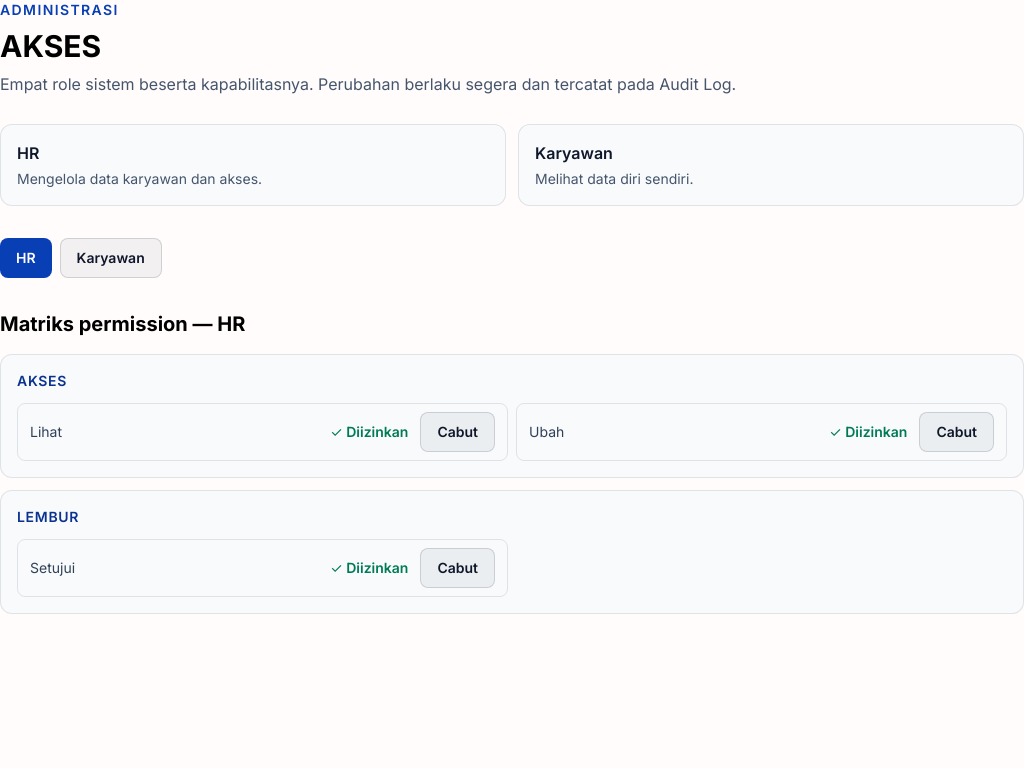
Test case: AccessPage › traps dialog focus and restores it to the permission control after cancel
The image size is (1024, 768).
Click the 1st button "Cabut": coordinates (458, 432) [420,412,495,452]
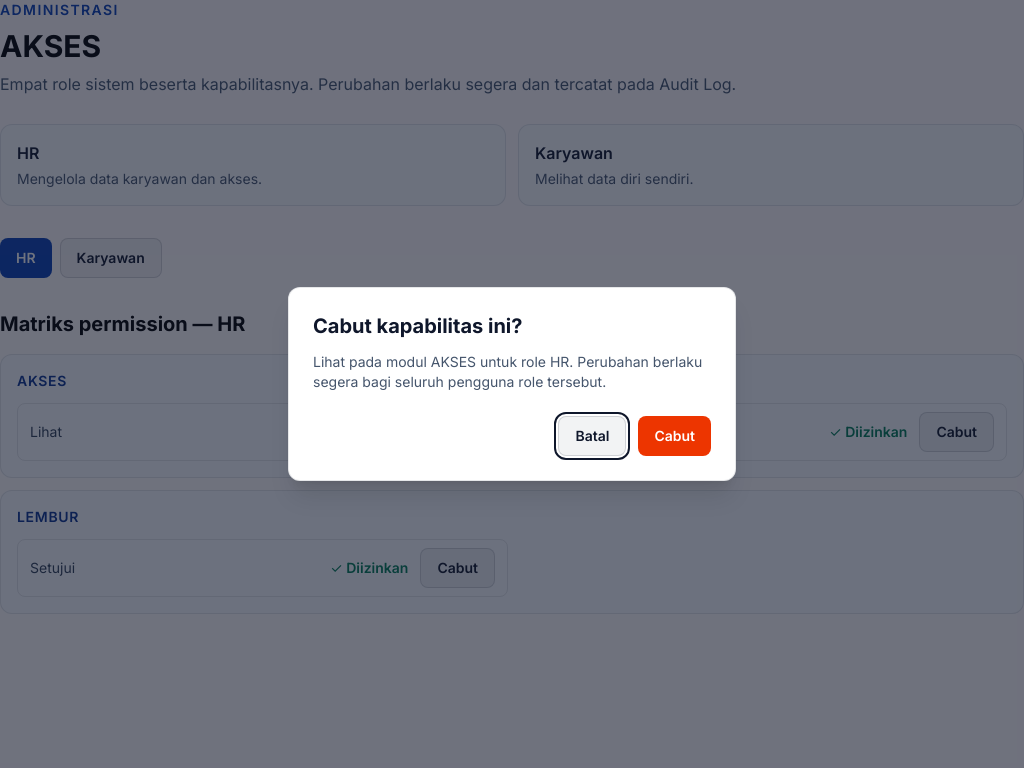
Press Shift+Tab
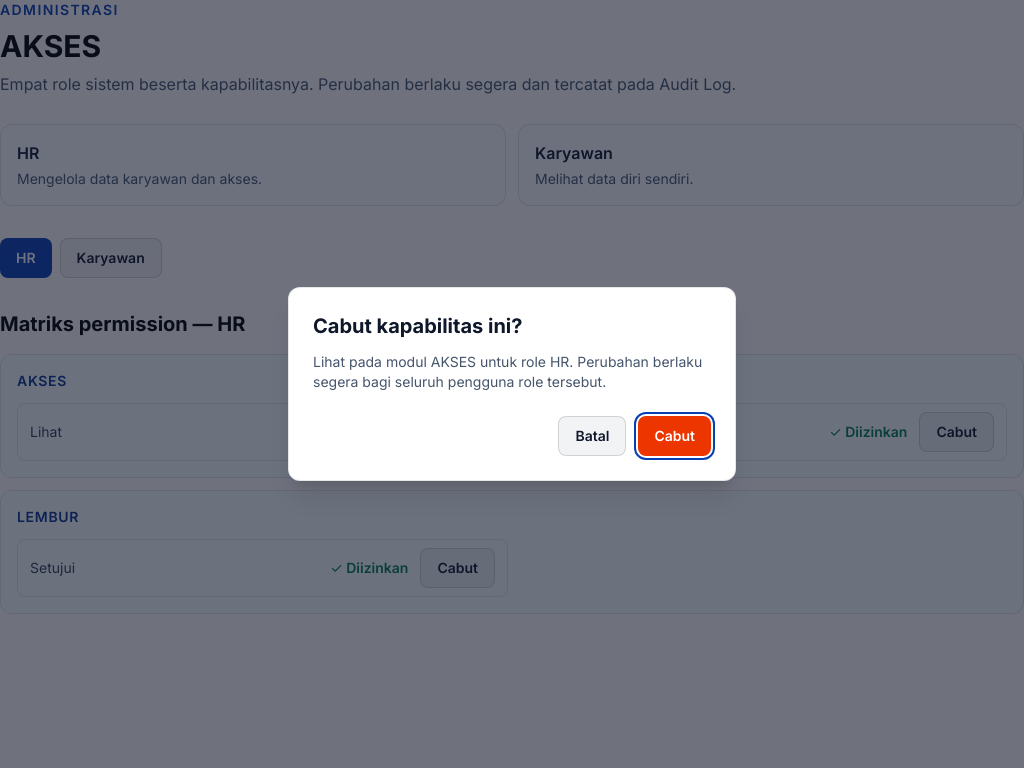
Press Tab
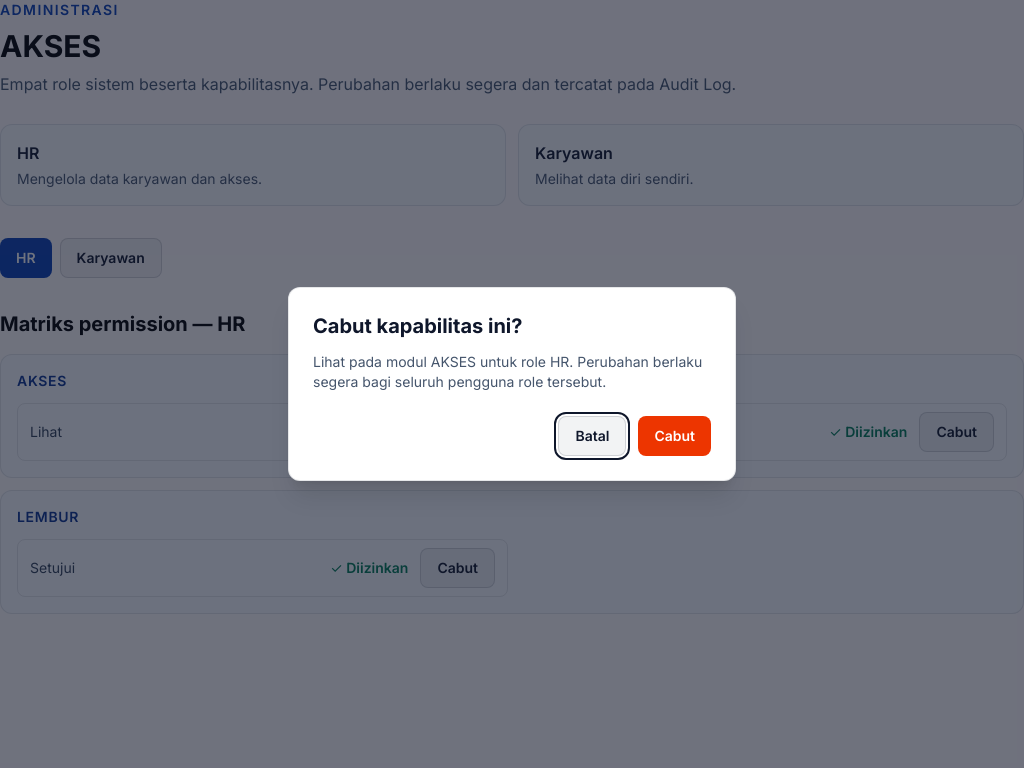
Press Escape
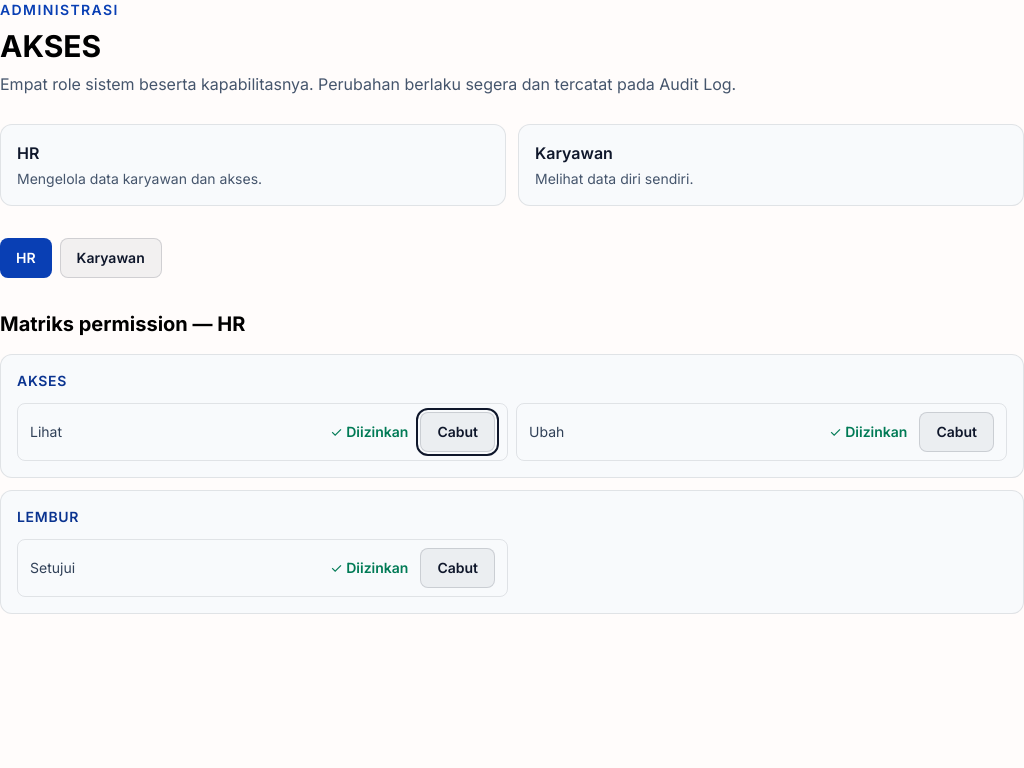
Expected: the dialog is gone
